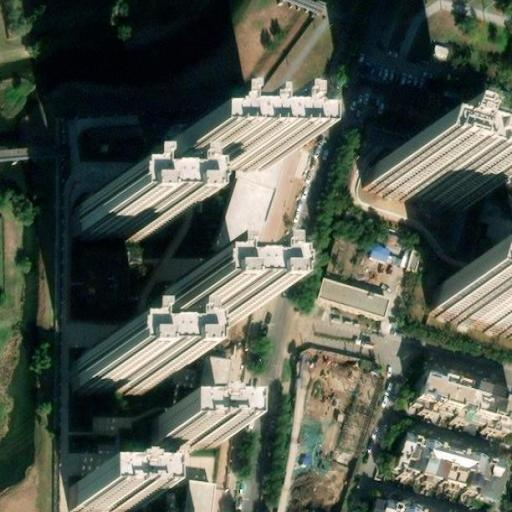building: (218, 131, 287, 257), (365, 149, 463, 212), (399, 433, 494, 486), (422, 365, 512, 417), (162, 126, 273, 168), (431, 284, 512, 337), (76, 344, 160, 388), (164, 278, 247, 321), (80, 191, 162, 234), (317, 278, 386, 314), (153, 415, 221, 444), (72, 482, 138, 511), (200, 358, 231, 411), (374, 496, 435, 512), (187, 482, 216, 512), (194, 129, 247, 145), (162, 128, 182, 148)
